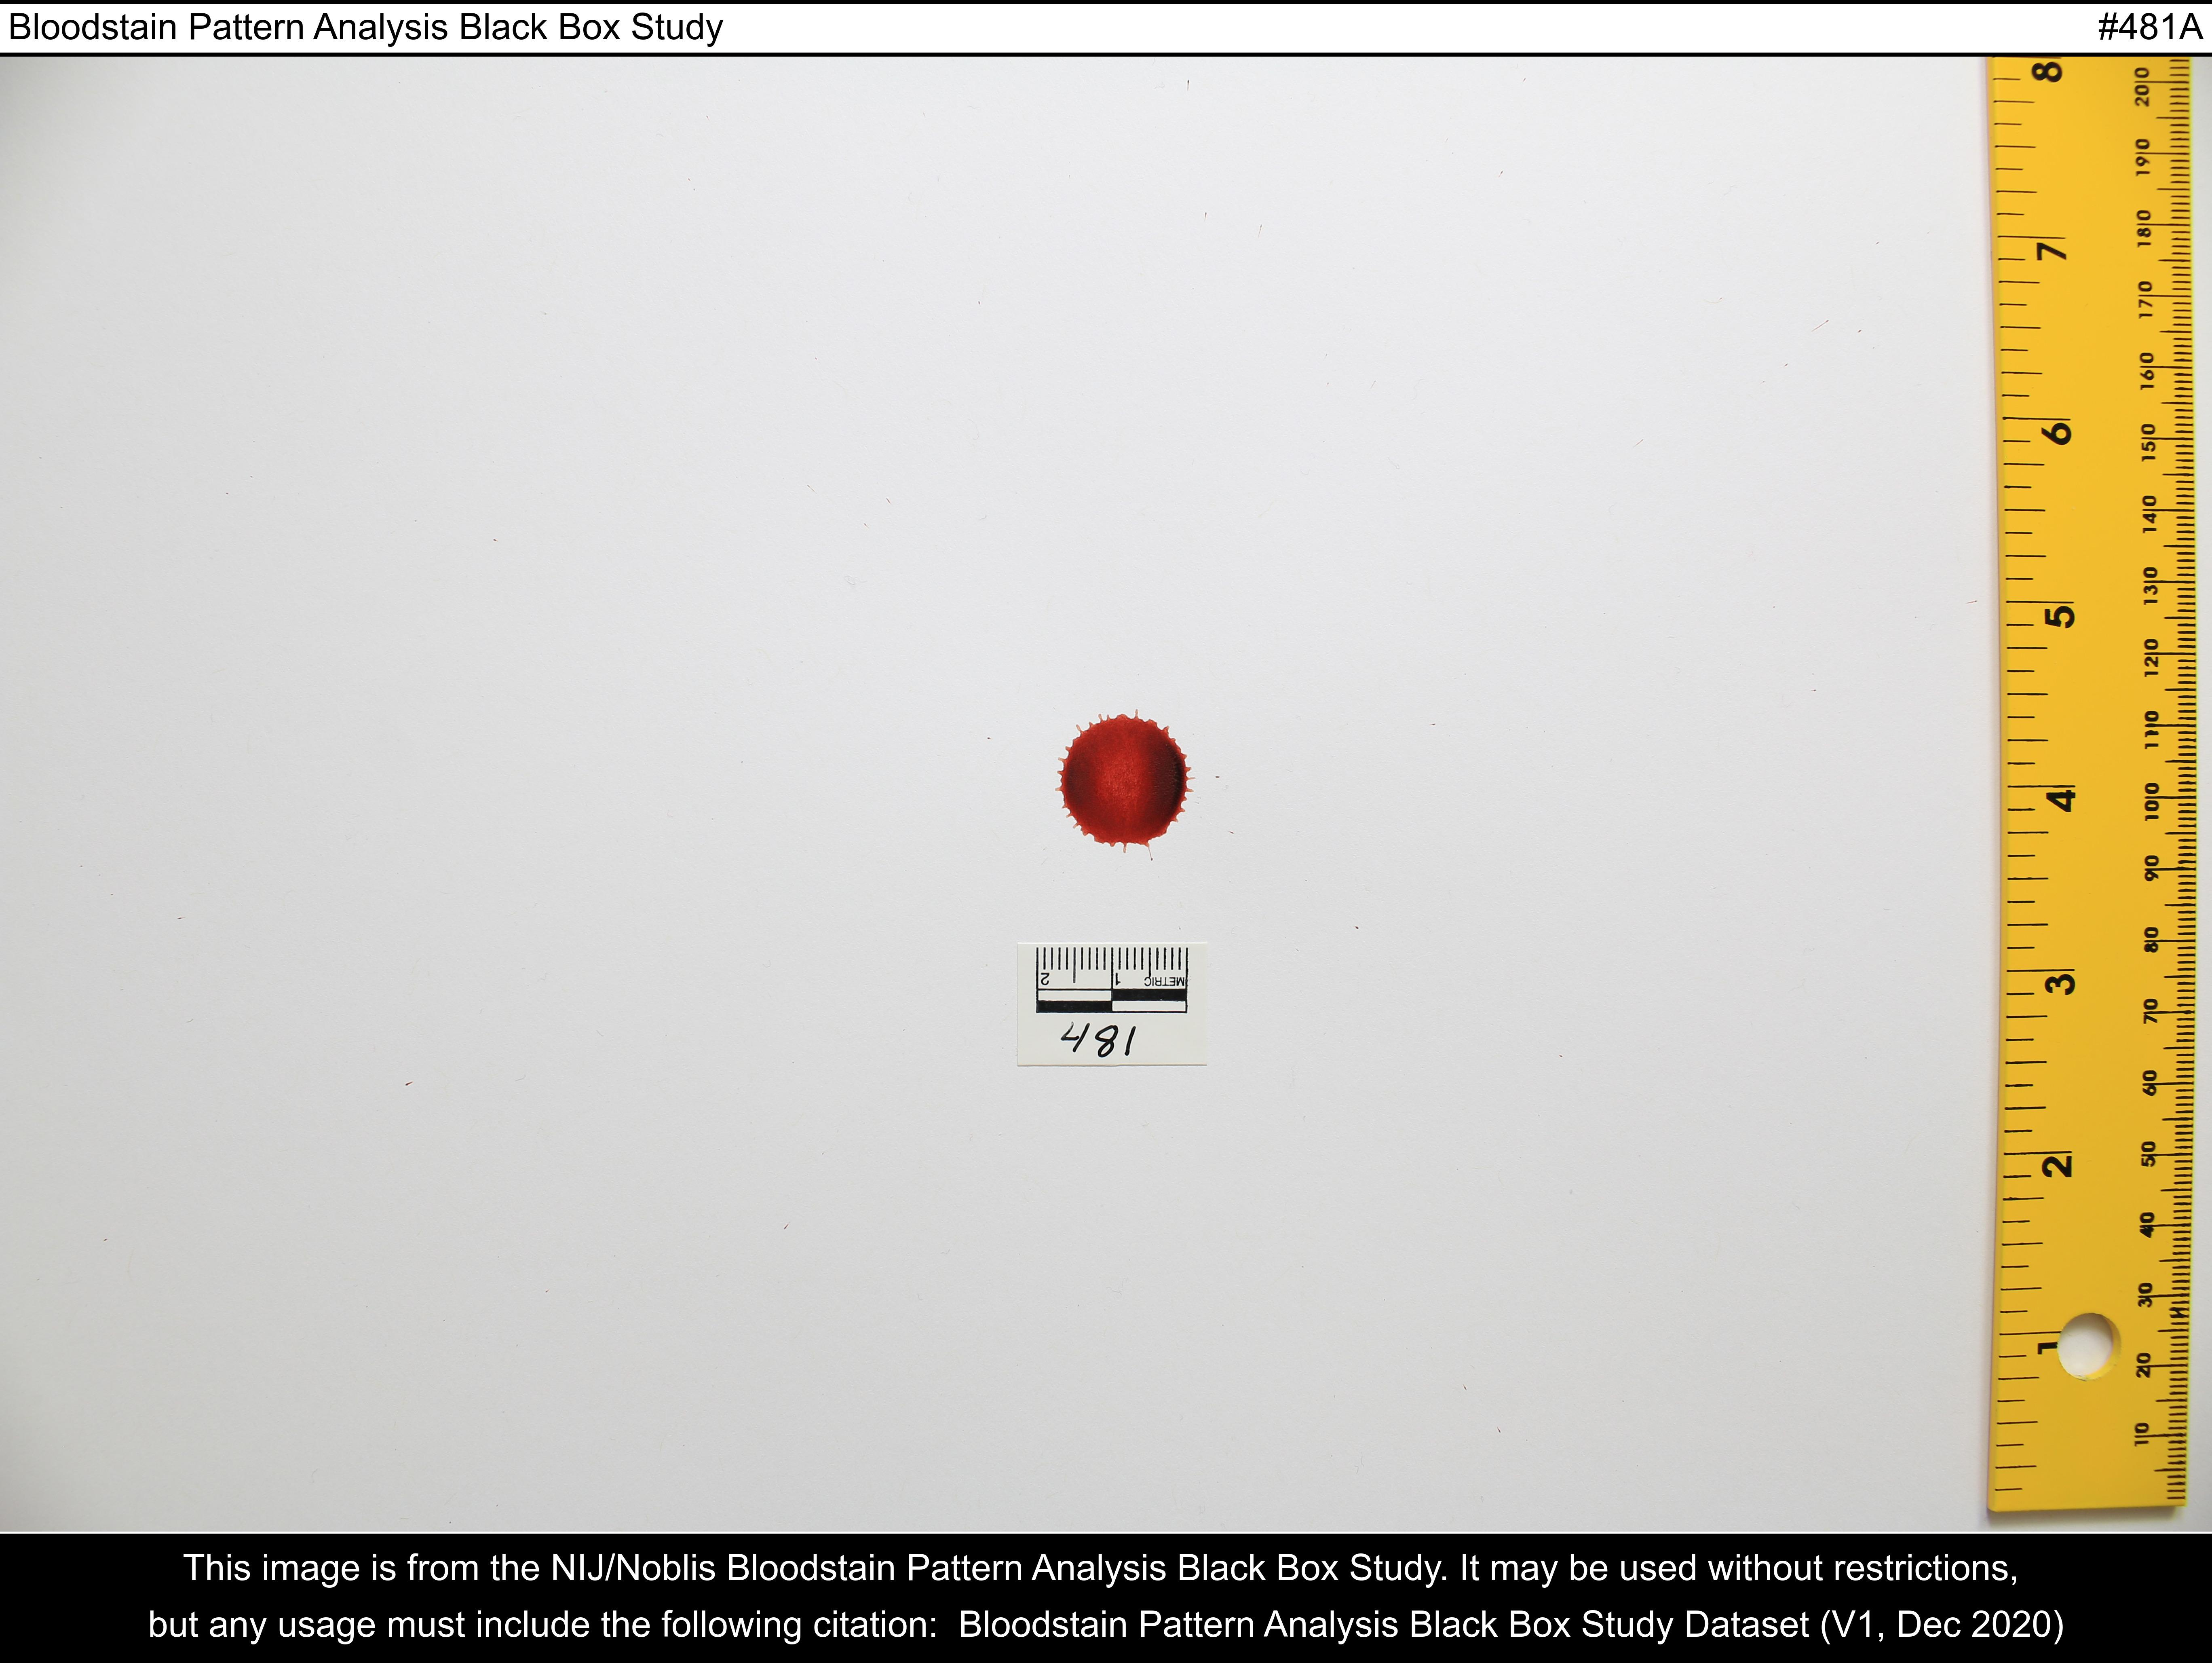Passive: (1016, 680, 1294, 917)
